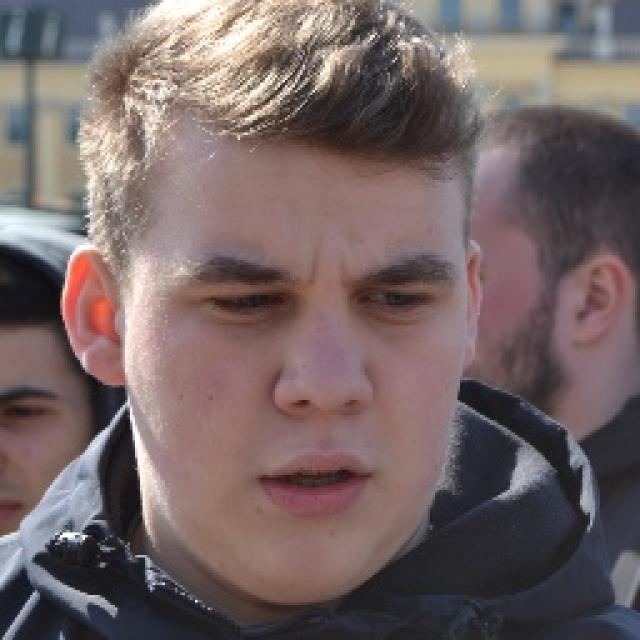earlobe: (60, 244, 132, 387), (571, 254, 629, 350), (464, 235, 486, 372)
